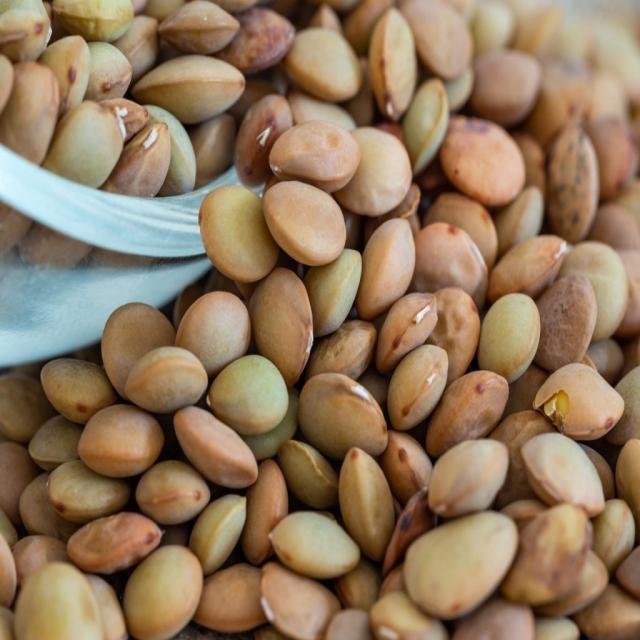lentejas: (10, 10, 637, 634)
